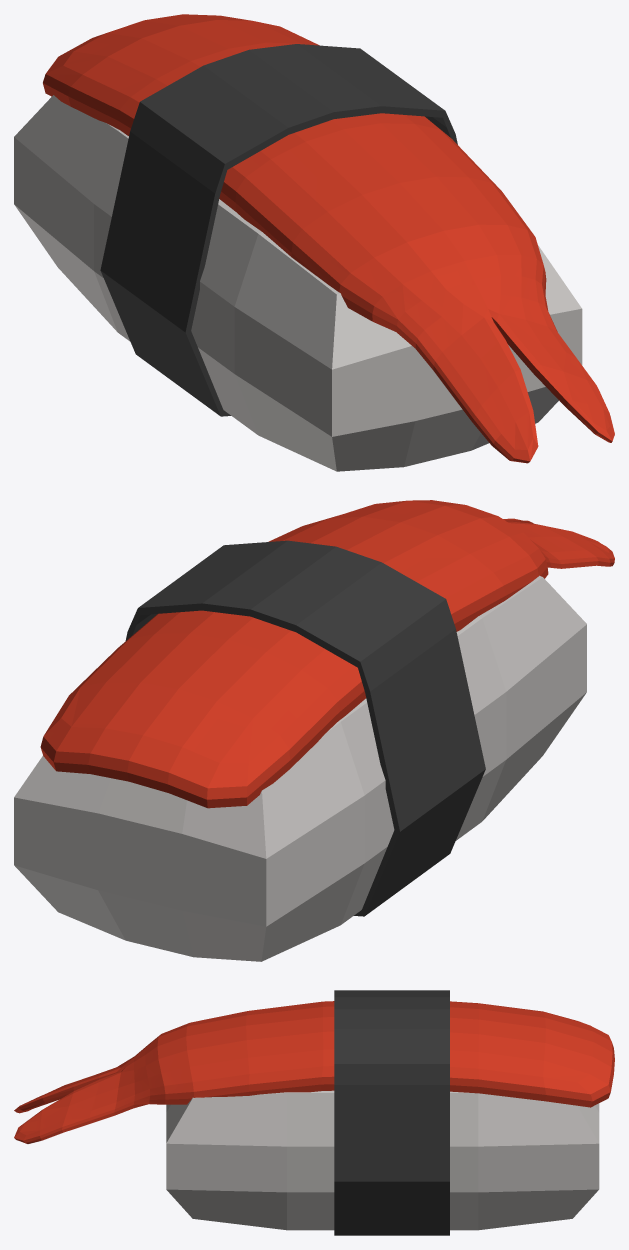
File: Fish_2.fbx
3 views of the same model, one above another, from view 1: azimuth 30°, elevation 25°; view 2: azimuth 150°, elevation 25°; view 3: azimuth 270°, elevation 25° (orthographic). The views are drawn at different scales.
Parts seen in each view (by area): view 1: Fish_2; view 2: Fish_2; view 3: Fish_2.
Part boxes in pixels (<box>): Fish_2: <box>14,14,614,471</box>; Fish_2: <box>14,500,614,961</box>; Fish_2: <box>14,990,614,1235</box>.
Size of the model in its own units: 13.43 by 12.59 by 34.68.
